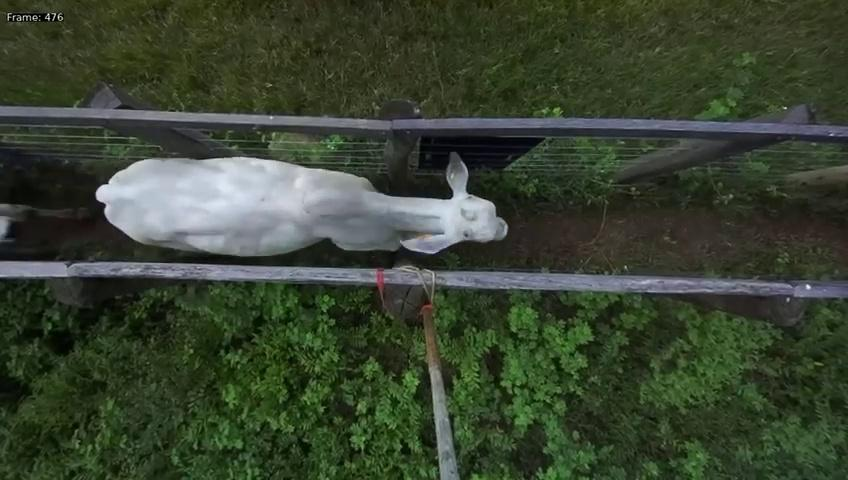cattle: (93, 136, 509, 259)
